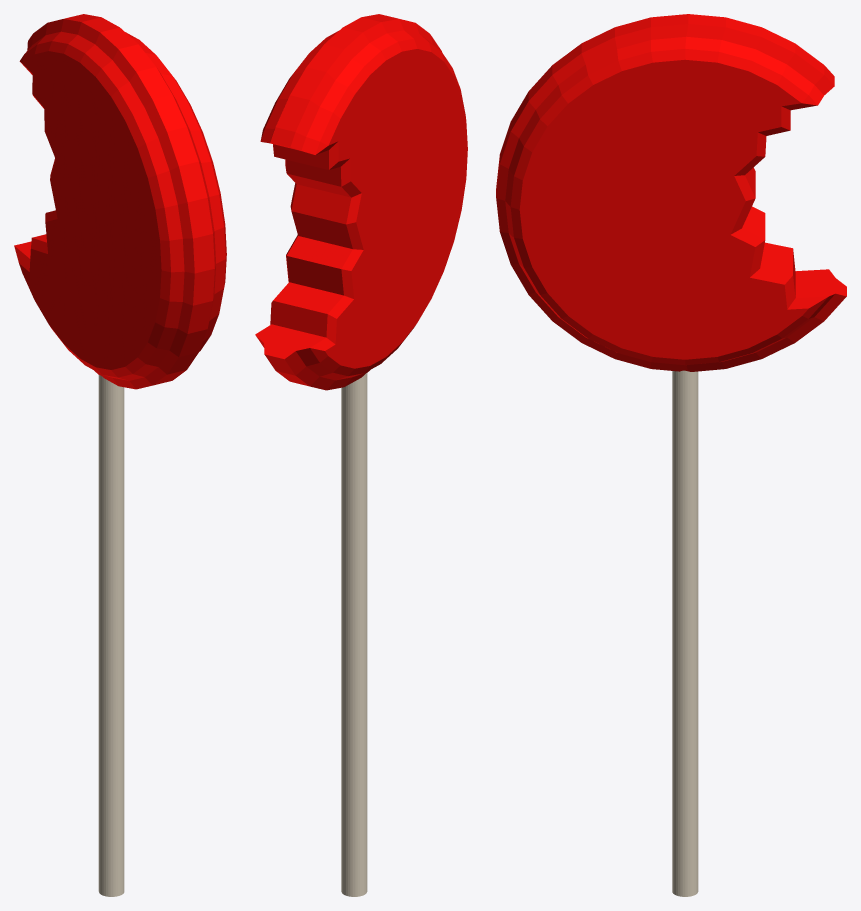
File: SuckerWeapon03.FBX
3 views of the same model, side by side, from view 1: azimuth 30°, elevation 25°; view 2: azimuth 150°, elevation 25°; view 3: azimuth 270°, elevation 25° (orthographic).
Parts seen in each view (by area): view 1: SuckerWeapon03; view 2: SuckerWeapon03; view 3: SuckerWeapon03.
Part boxes in pixels (<box>): SuckerWeapon03: <box>14,14,226,896</box>; SuckerWeapon03: <box>255,14,467,896</box>; SuckerWeapon03: <box>496,14,846,896</box>.
Size of what is drawn, in the model's own units: 22.96 by 105 by 289.
